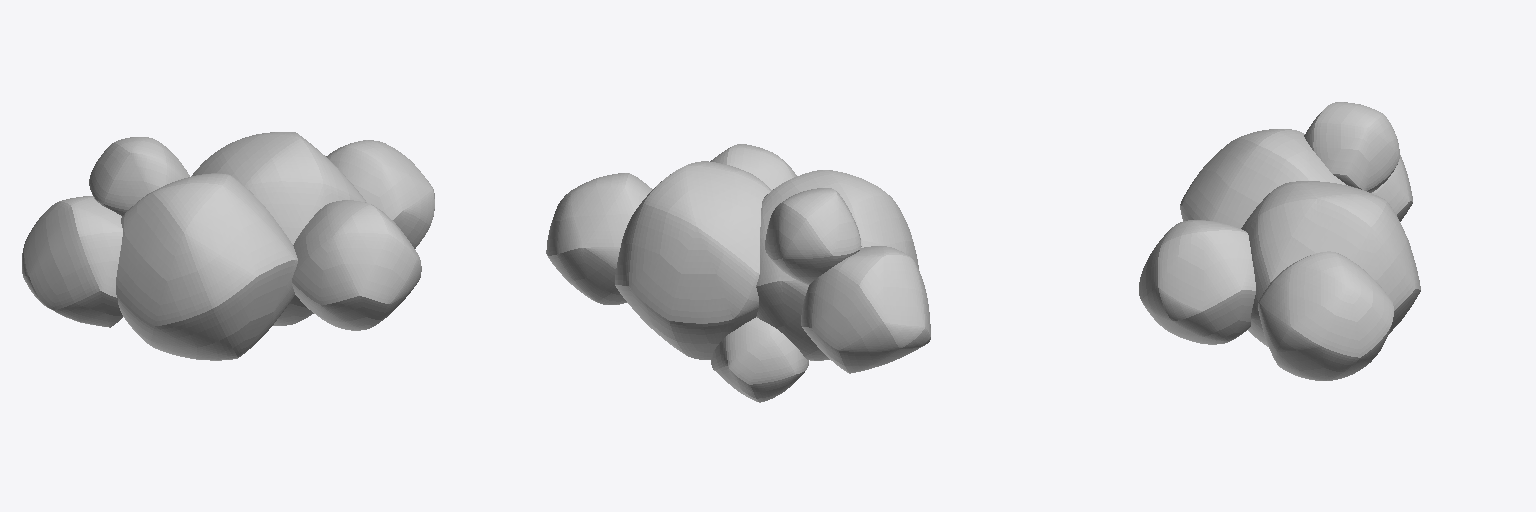
File: Cloud_3.obj
The picture shows the model from 3 angles: view 1: azimuth 30°, elevation 25°; view 2: azimuth 150°, elevation 25°; view 3: azimuth 270°, elevation 25°; orthographic projection.
Visible parts, largest first — view 1: Object.6, Object.3, Object.5, Object.7, Object.4, Object.1; view 2: Object.7, Object.5, Object.6, Object.4, Object.1, Object.2, Object.3; view 3: Object.7, Object.4, Object.3, Object.6, Object.1, Object.5.
Part boxes in pixels (x1,y1,x2,y2): Object.6: (116,173,297,360); Object.3: (292,200,421,330); Object.5: (22,196,122,327); Object.7: (192,132,366,325); Object.4: (326,140,434,248); Object.1: (89,137,189,215); Object.7: (615,161,771,359); Object.5: (801,246,930,373); Object.6: (756,170,918,360); Object.4: (546,173,652,304); Object.1: (765,188,861,284); Object.2: (711,317,808,402); Object.3: (710,144,796,189); Object.7: (1241,181,1420,346); Object.4: (1258,251,1393,380); Object.3: (1139,220,1255,344); Object.6: (1180,129,1347,228); Object.1: (1304,102,1399,192); Object.5: (1372,155,1412,221).
Size of the model in its own units: 46.35 by 24.89 by 29.45.